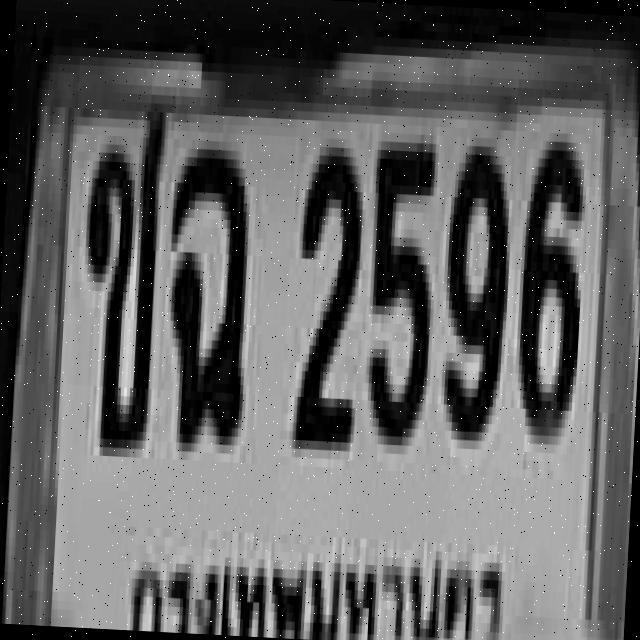18ChorChing: (158, 147, 258, 464)
19ChorChang: (76, 100, 168, 462)
2: (290, 146, 364, 450)
5: (362, 139, 438, 444)
6: (514, 146, 588, 452)
9: (437, 146, 513, 444)
